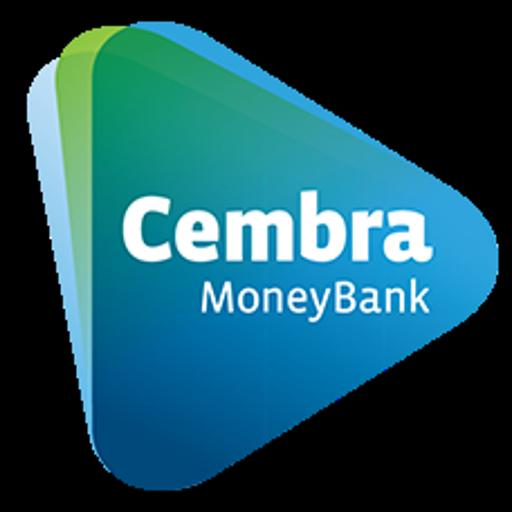Cembra Money Bank AG: (0, 8, 512, 504)
